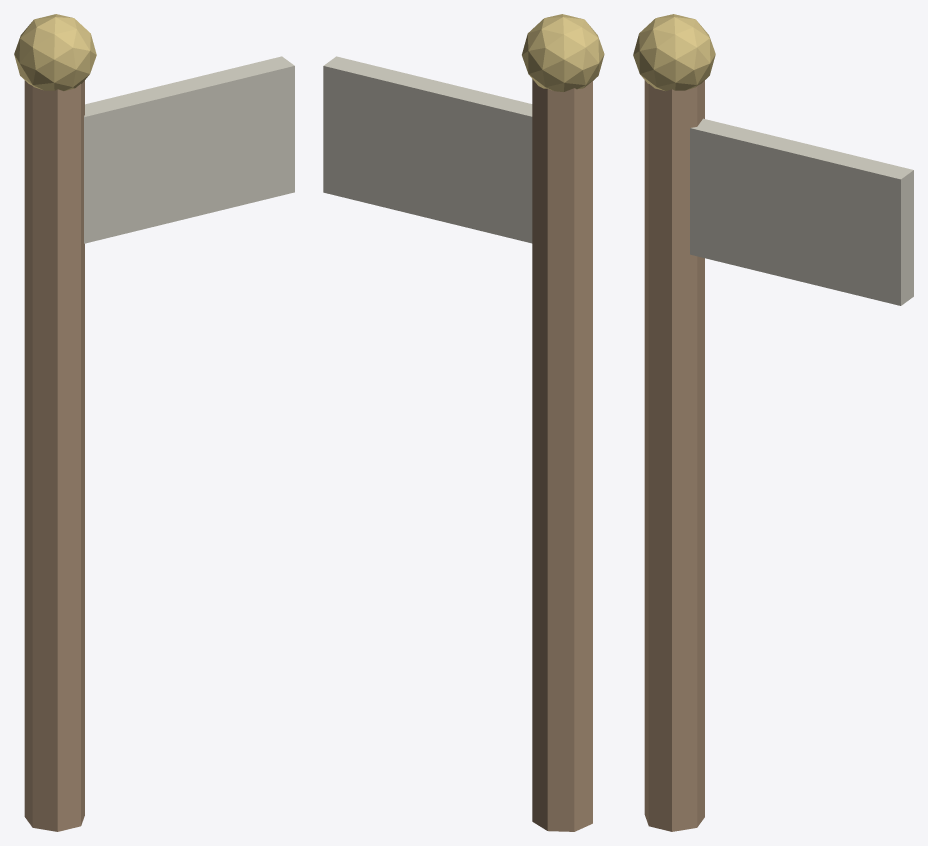
The model's file is silk_flag.glb.
The picture shows the model from 3 angles, left to right: view 1: azimuth 30°, elevation 25°; view 2: azimuth 150°, elevation 25°; view 3: azimuth 330°, elevation 25°; orthographic projection.
Parts seen in each view (by area): view 1: Pole, SilkFlag, Finial; view 2: Pole, SilkFlag, Finial; view 3: Pole, SilkFlag, Finial.
Part boxes in pixels (bbox=[...]): Pole: bbox=[24, 80, 84, 831]; SilkFlag: bbox=[84, 56, 294, 243]; Finial: bbox=[14, 14, 96, 90]; Pole: bbox=[532, 79, 592, 831]; SilkFlag: bbox=[323, 56, 532, 243]; Finial: bbox=[522, 14, 604, 91]; Pole: bbox=[644, 80, 704, 831]; SilkFlag: bbox=[690, 118, 913, 305]; Finial: bbox=[633, 14, 715, 90].
Size of the model in its own units: 0.6 by 1.71 by 0.16.
